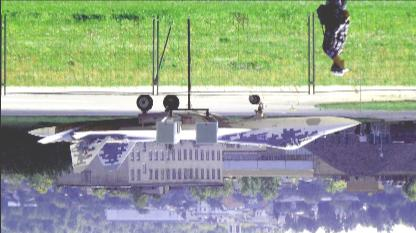SR71: (27, 94, 361, 171)
